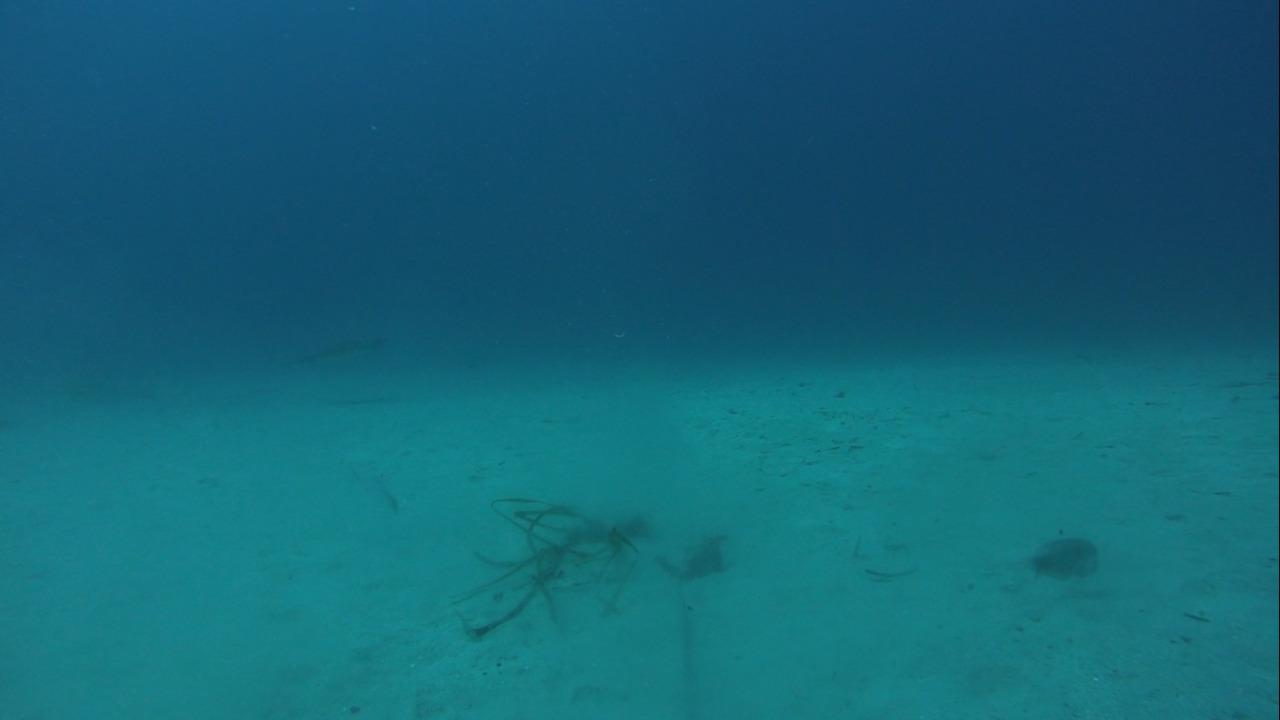myliobatis: (226, 309, 392, 384)
raor: (1016, 534, 1106, 582)
